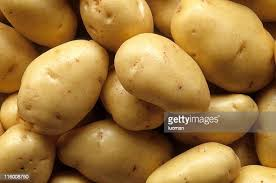potato: (169, 0, 275, 90), (18, 38, 109, 131), (115, 33, 211, 115)
